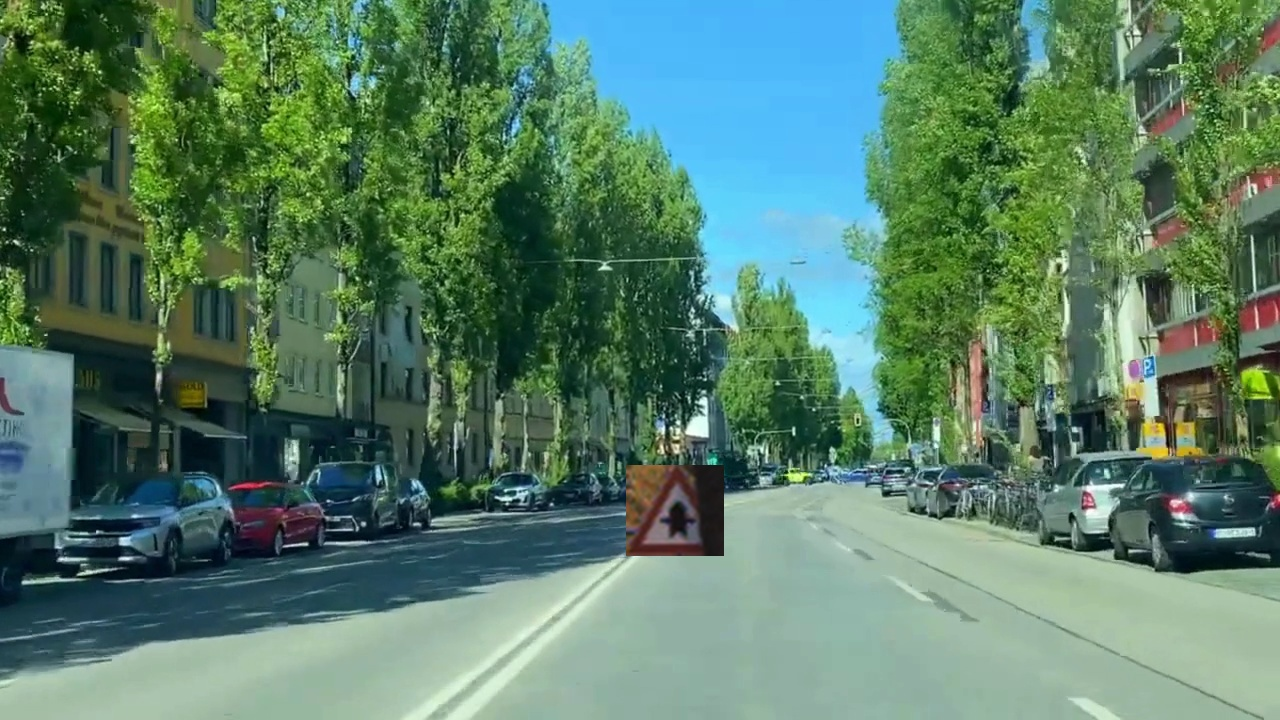Right-of-way: (626, 465, 724, 556)
